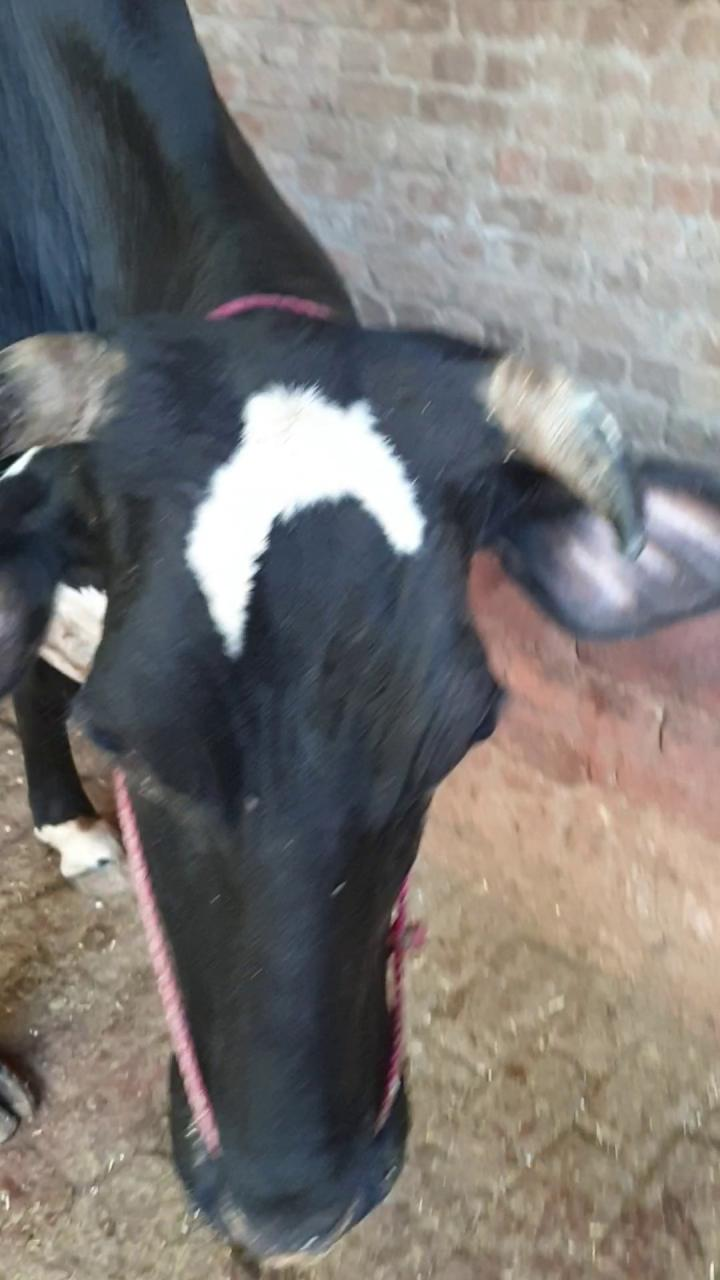cows: (69, 332, 438, 1263)
